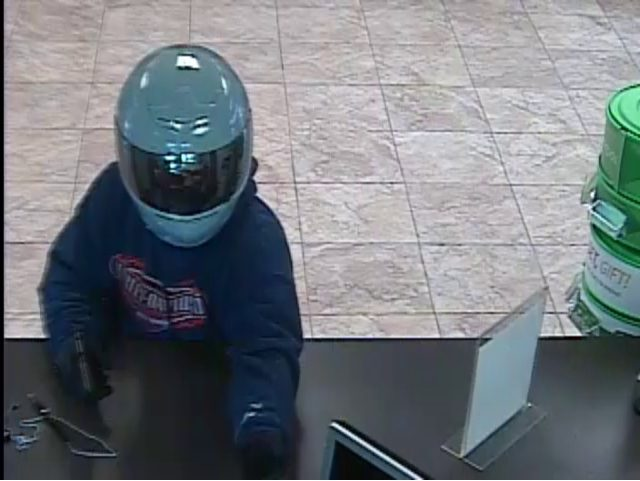helmet: (95, 27, 267, 254)
